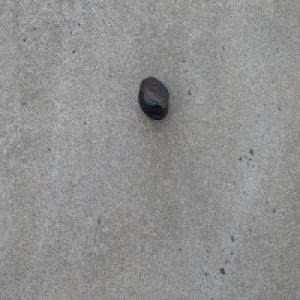FuelCap: (137, 75, 170, 122)
